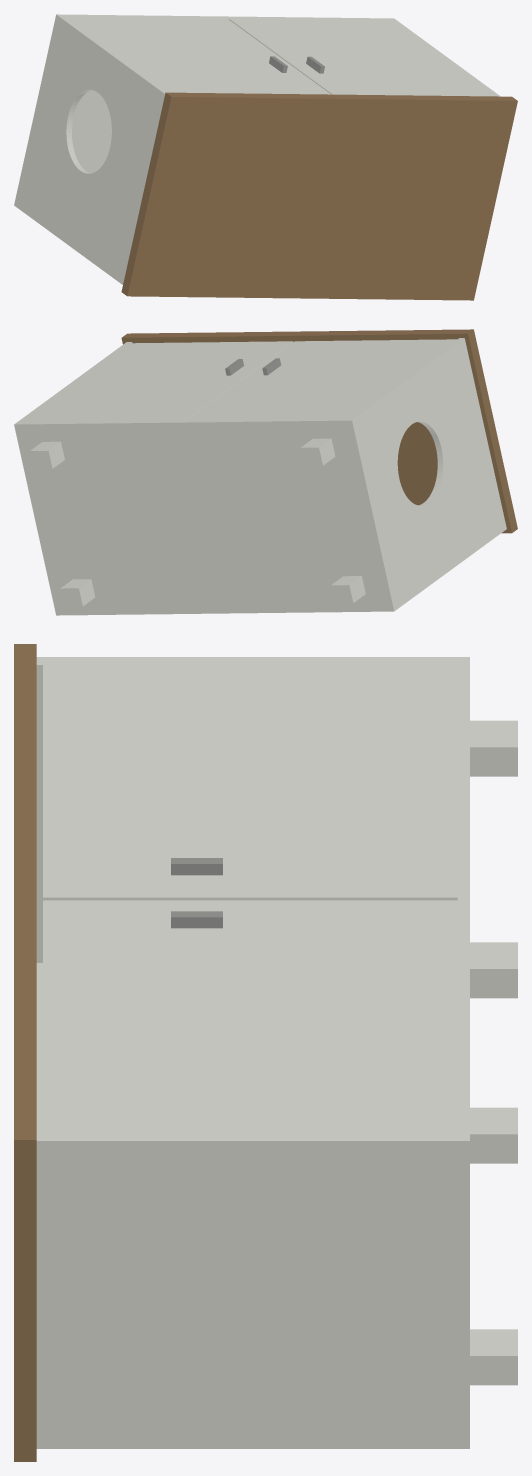
File: component_008_pet_cabinet_procedural.glb
3 views of the same model, one above another, from view 1: azimuth 30°, elevation 25°; view 2: azimuth 150°, elevation 25°; view 3: azimuth 270°, elevation 25° (orthographic). The views are drawn at different scales.
Parts seen in each view (by area): view 1: 008_pet_cabinet_procedural_000_instance_000_photo_-01, 008_pet_cabinet_procedural_004_instance_004_photo_-01, 008_pet_cabinet_procedural_009_instance_009_photo_-01, 008_pet_cabinet_procedural_005_instance_005_photo_-01, 008_pet_cabinet_procedural_001_instance_001_photo_-01, 008_pet_cabinet_procedural_002_instance_002_photo_-01, 008_pet_cabinet_procedural_003_instance_003_photo_-01; view 2: 008_pet_cabinet_procedural_001_instance_001_photo_-01, 008_pet_cabinet_procedural_004_instance_004_photo_-01, 008_pet_cabinet_procedural_009_instance_009_photo_-01, 008_pet_cabinet_procedural_005_instance_005_photo_-01, 008_pet_cabinet_procedural_000_instance_000_photo_-01, 008_pet_cabinet_procedural_002_instance_002_photo_-01, 008_pet_cabinet_procedural_003_instance_003_photo_-01, 008_pet_cabinet_procedural_007_instance_007_photo_-01, 008_pet_cabinet_procedural_008_instance_008_photo_-01, 008_pet_cabinet_procedural_011_instance_011_photo_-01, 008_pet_cabinet_procedural_012_instance_012_photo_-01; view 3: 008_pet_cabinet_procedural_003_instance_003_photo_-01, 008_pet_cabinet_procedural_009_instance_009_photo_-01, 008_pet_cabinet_procedural_005_instance_005_photo_-01, 008_pet_cabinet_procedural_000_instance_000_photo_-01, 008_pet_cabinet_procedural_001_instance_001_photo_-01, 008_pet_cabinet_procedural_004_instance_004_photo_-01, 008_pet_cabinet_procedural_002_instance_002_photo_-01, 008_pet_cabinet_procedural_007_instance_007_photo_-01, 008_pet_cabinet_procedural_008_instance_008_photo_-01, 008_pet_cabinet_procedural_011_instance_011_photo_-01, 008_pet_cabinet_procedural_012_instance_012_photo_-01, 008_pet_cabinet_procedural_006_instance_006_photo_-01 (+1 smaller).
Boxes of the visible parts, x1,y1,x2,y2 form: 008_pet_cabinet_procedural_000_instance_000_photo_-01: [121, 92, 517, 300]; 008_pet_cabinet_procedural_004_instance_004_photo_-01: [18, 14, 167, 278]; 008_pet_cabinet_procedural_009_instance_009_photo_-01: [228, 17, 494, 96]; 008_pet_cabinet_procedural_005_instance_005_photo_-01: [65, 17, 330, 94]; 008_pet_cabinet_procedural_001_instance_001_photo_-01: [14, 14, 389, 207]; 008_pet_cabinet_procedural_002_instance_002_photo_-01: [17, 202, 124, 284]; 008_pet_cabinet_procedural_003_instance_003_photo_-01: [389, 18, 500, 96]; 008_pet_cabinet_procedural_001_instance_001_photo_-01: [19, 418, 397, 610]; 008_pet_cabinet_procedural_004_instance_004_photo_-01: [346, 338, 505, 605]; 008_pet_cabinet_procedural_009_instance_009_photo_-01: [21, 341, 293, 423]; 008_pet_cabinet_procedural_005_instance_005_photo_-01: [188, 339, 456, 419]; 008_pet_cabinet_procedural_000_instance_000_photo_-01: [121, 329, 517, 533]; 008_pet_cabinet_procedural_002_instance_002_photo_-01: [55, 523, 506, 615]; 008_pet_cabinet_procedural_003_instance_003_photo_-01: [14, 342, 132, 609]; 008_pet_cabinet_procedural_007_instance_007_photo_-01: [331, 576, 365, 603]; 008_pet_cabinet_procedural_008_instance_008_photo_-01: [300, 438, 335, 465]; 008_pet_cabinet_procedural_011_instance_011_photo_-01: [60, 579, 95, 606]; 008_pet_cabinet_procedural_012_instance_012_photo_-01: [30, 441, 64, 469]; 008_pet_cabinet_procedural_003_instance_003_photo_-01: [36, 1133, 469, 1438]; 008_pet_cabinet_procedural_009_instance_009_photo_-01: [43, 900, 463, 1132]; 008_pet_cabinet_procedural_005_instance_005_photo_-01: [43, 665, 457, 900]; 008_pet_cabinet_procedural_000_instance_000_photo_-01: [14, 644, 36, 1461]; 008_pet_cabinet_procedural_001_instance_001_photo_-01: [457, 665, 469, 1448]; 008_pet_cabinet_procedural_004_instance_004_photo_-01: [36, 657, 469, 962]; 008_pet_cabinet_procedural_002_instance_002_photo_-01: [36, 963, 457, 1448]; 008_pet_cabinet_procedural_007_instance_007_photo_-01: [470, 942, 517, 998]; 008_pet_cabinet_procedural_008_instance_008_photo_-01: [470, 720, 517, 776]; 008_pet_cabinet_procedural_011_instance_011_photo_-01: [470, 1329, 517, 1385]; 008_pet_cabinet_procedural_012_instance_012_photo_-01: [470, 1107, 517, 1163]; 008_pet_cabinet_procedural_006_instance_006_photo_-01: [171, 858, 222, 875].
Size of the model in its own units: 0.4153 by 0.2819 by 0.2412.
